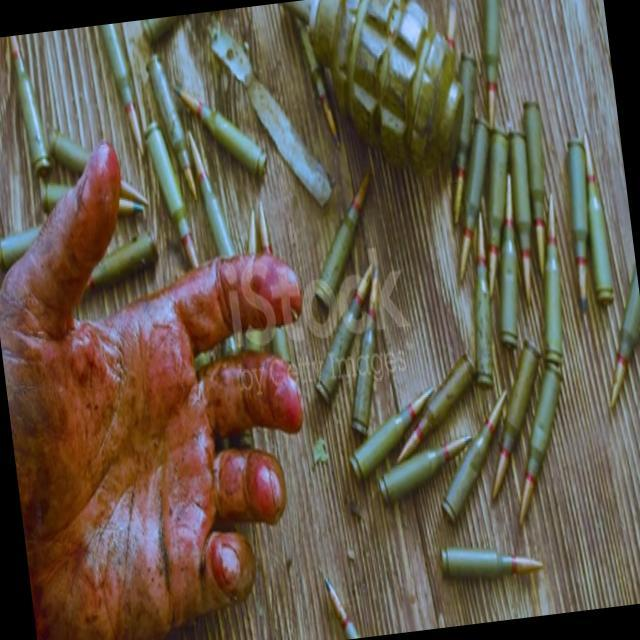grenade: (297, 0, 467, 165)
